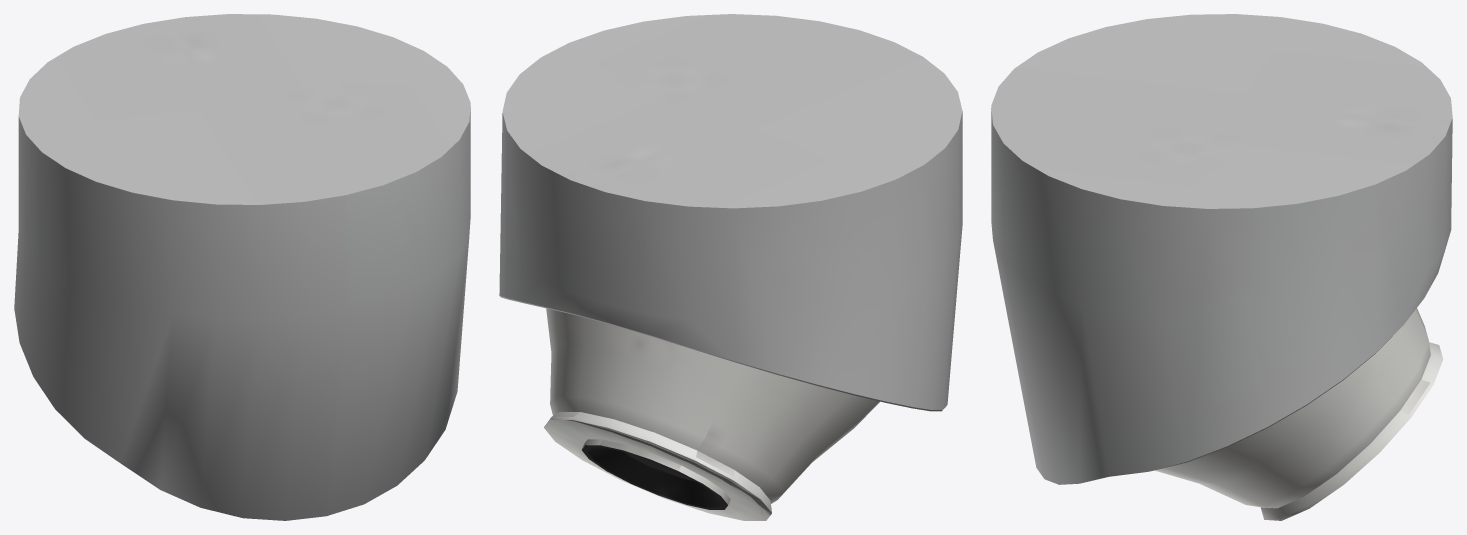
The model's file is bw-cam-a.lod0.glb.
3 views of the same model, side by side, from view 1: azimuth 30°, elevation 25°; view 2: azimuth 150°, elevation 25°; view 3: azimuth 270°, elevation 25° (orthographic). The views are drawn at different scales.
Visible parts, largest first — view 1: Object_6; view 2: Object_6; view 3: Object_6.
Boxes of the visible parts, bbox=[...] form: Object_6: bbox=[14, 14, 470, 520]; Object_6: bbox=[499, 14, 962, 520]; Object_6: bbox=[991, 14, 1452, 520].
Size of the model in its own units: 0.45 by 0.42 by 0.4488.
1 material, 1 textured.
